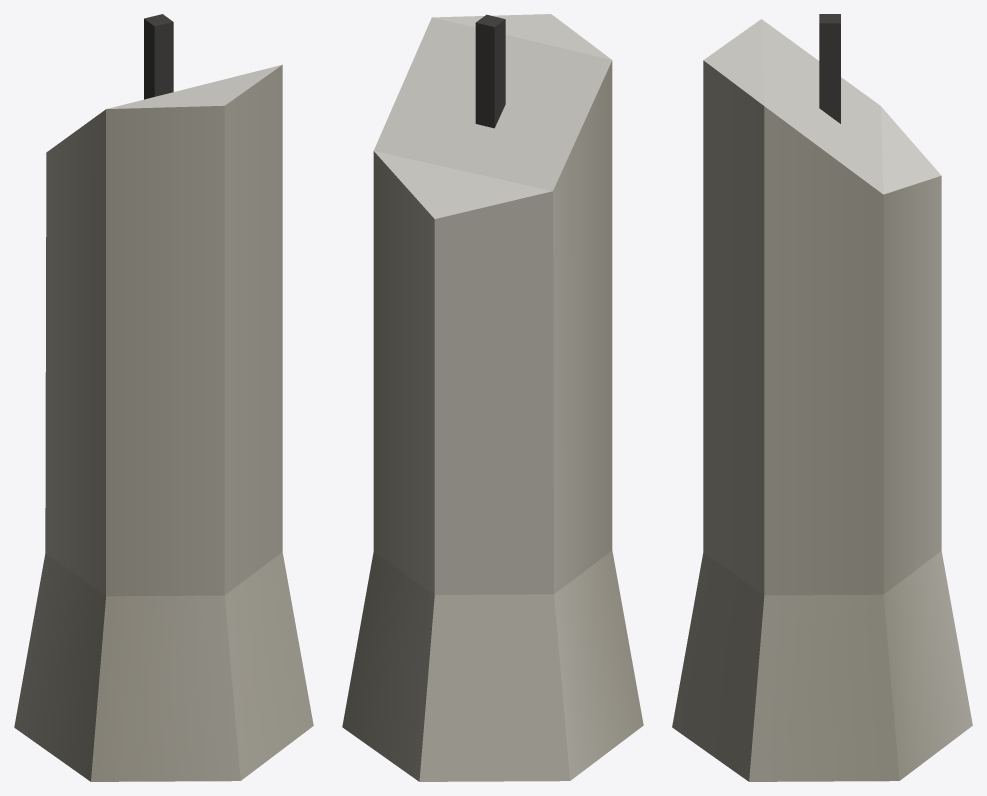
The model's file is candle.glb.
3 renders of one model, left to right at view 1: azimuth 30°, elevation 25°; view 2: azimuth 150°, elevation 25°; view 3: azimuth 270°, elevation 25°, orthographic.
Parts seen in each view (by area): view 1: candle; view 2: candle; view 3: candle.
Part boxes in pixels (x1,y1,x2,y2): candle: (14,14,313,781); candle: (342,14,643,781); candle: (672,14,972,781).
Bounding box in the file's own units: 0.1317 × 0.3912 × 0.1509.
